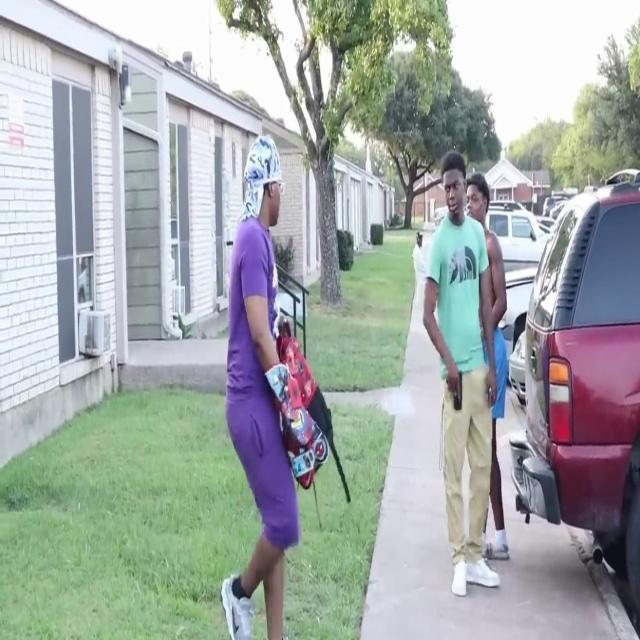Handgun: (446, 360, 468, 418)
